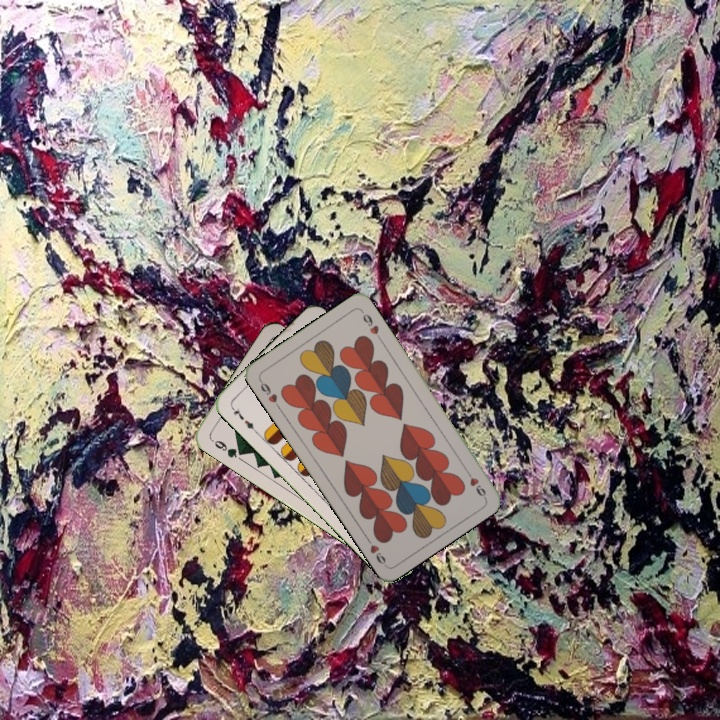E7: (227, 403, 259, 435)
G9: (207, 435, 246, 461)
H9: (255, 375, 283, 411), (461, 464, 489, 500)
